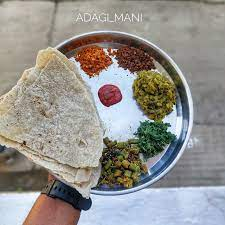rotti: (2, 45, 107, 200)
